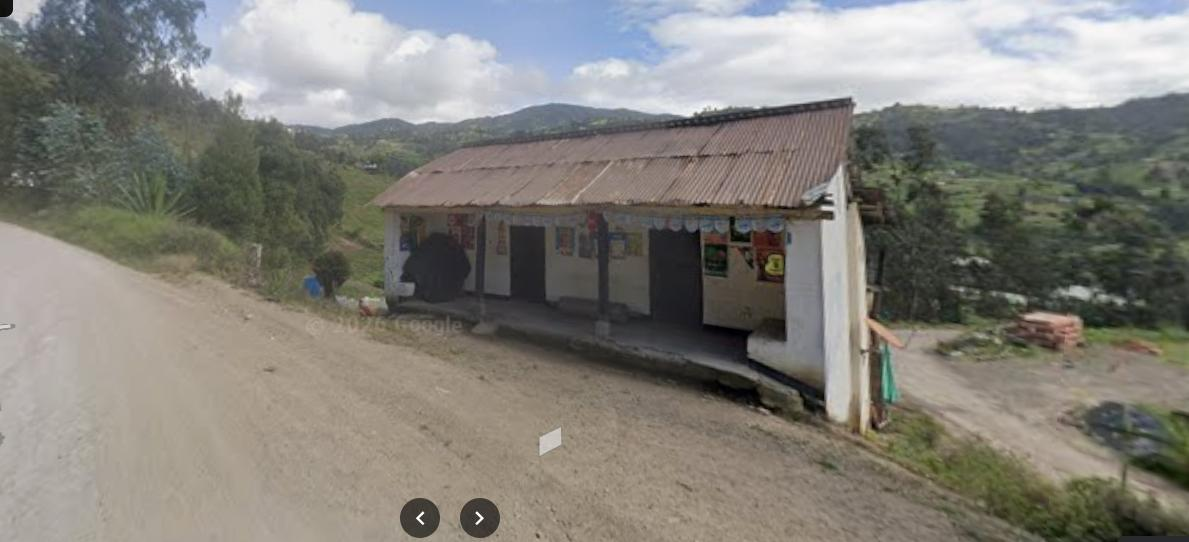casa: (371, 99, 873, 431)
